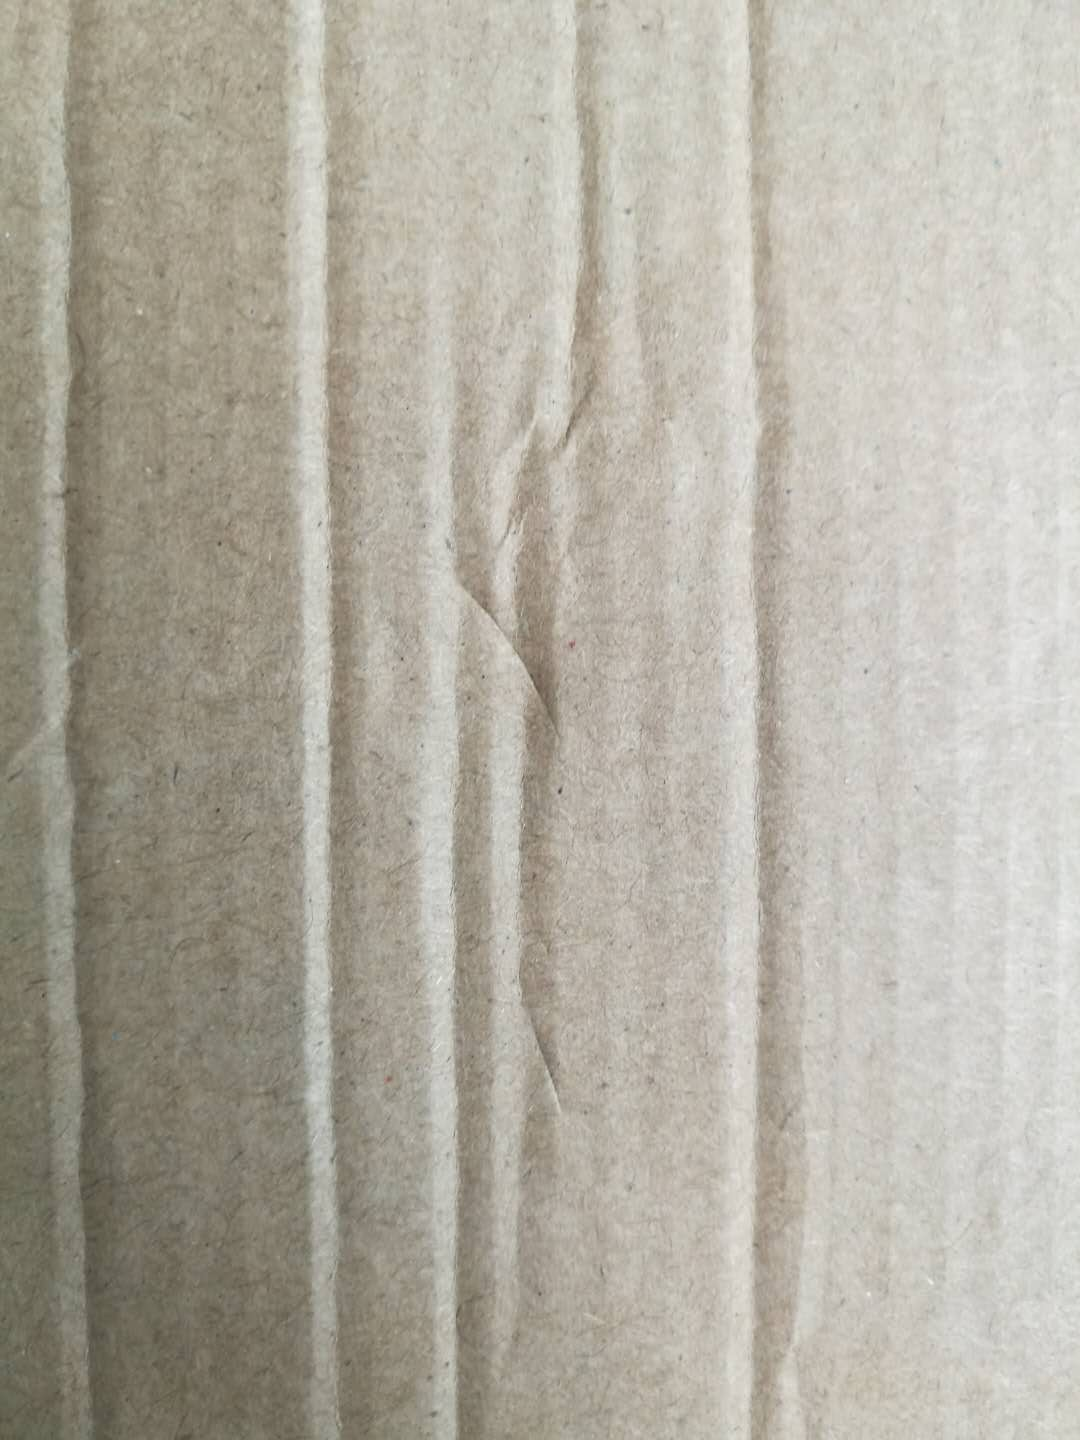defect: (422, 2, 681, 1440), (262, 2, 402, 1440), (715, 1, 849, 1439), (42, 2, 159, 1440)
